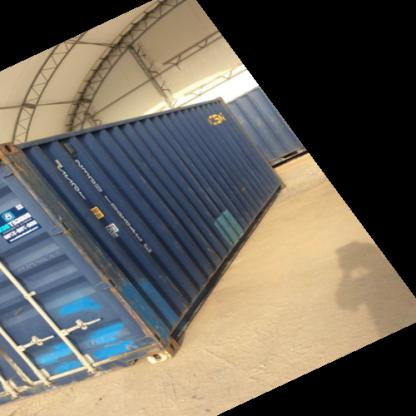Damage: (103, 269, 169, 353), (0, 139, 56, 210), (55, 206, 101, 278), (1, 341, 36, 390)
